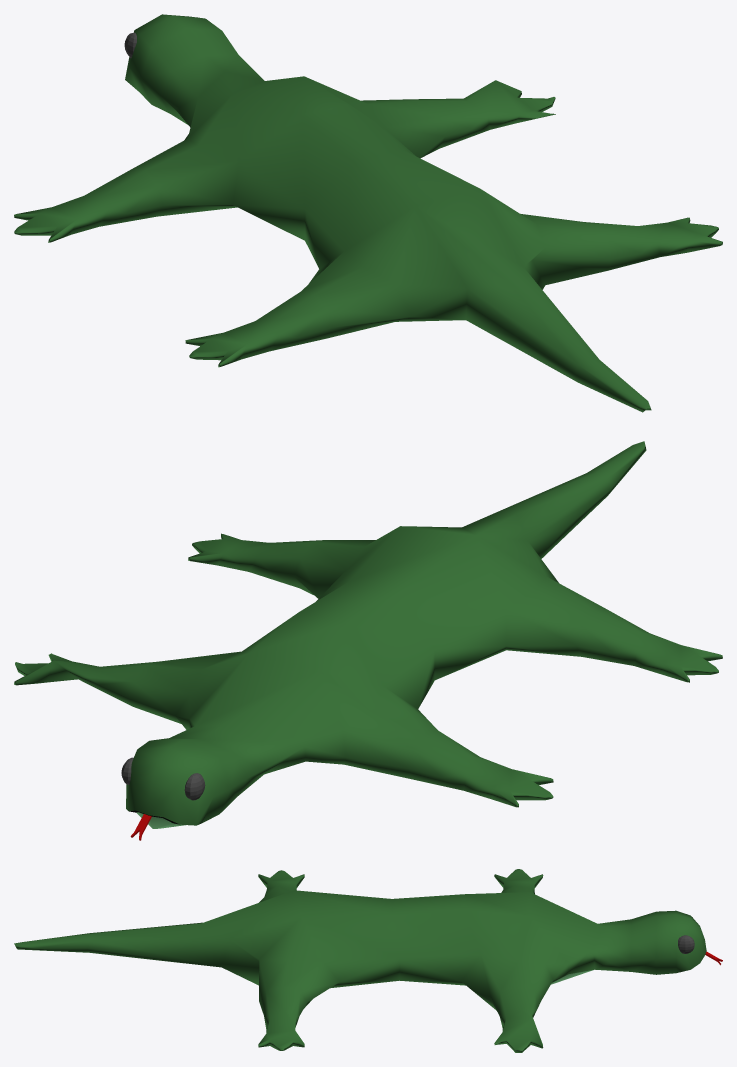
The model's file is Newt.fbx.
The picture shows the model from 3 angles, top to bottom: view 1: azimuth 30°, elevation 25°; view 2: azimuth 150°, elevation 25°; view 3: azimuth 270°, elevation 25°; orthographic projection. The views are drawn at different scales.
Visible parts, largest first — view 1: polySurface1; view 2: polySurface1; view 3: polySurface1.
Part boxes in pixels (x1,y1,x2,y2): polySurface1: [14, 14, 722, 412]; polySurface1: [14, 441, 722, 840]; polySurface1: [14, 869, 722, 1052].
Size of the model in its own units: 12.95 by 2.26 by 21.2.
